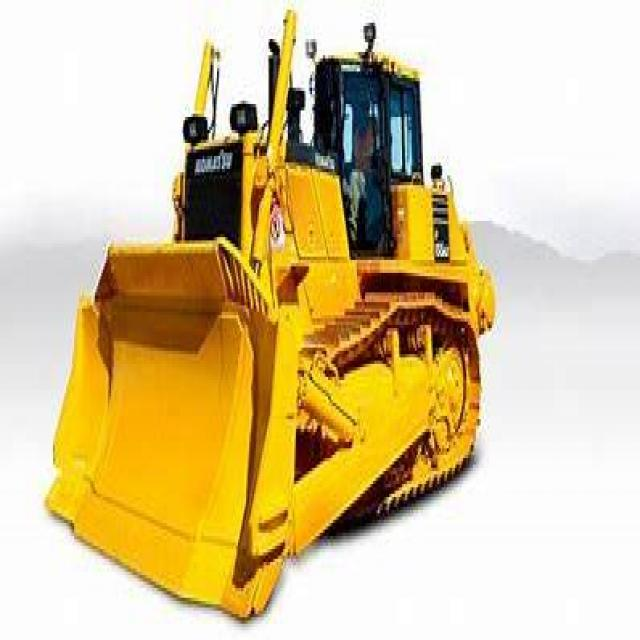Bulldozer: (46, 10, 498, 617)
